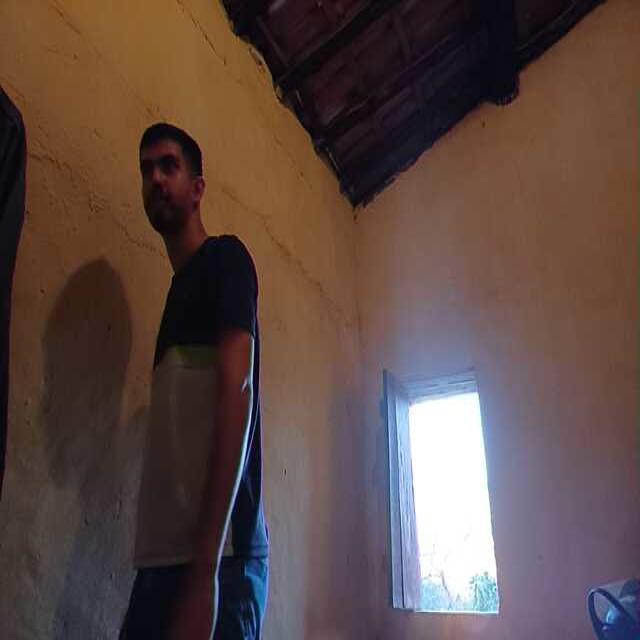capacete: (582, 566, 639, 640)
pessoa: (132, 127, 271, 640)
